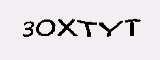Н: (50, 16, 65, 41)
О: (115, 22, 126, 39)
С: (68, 15, 93, 45)
Т: (34, 17, 49, 37)
Ш: (96, 19, 116, 44)
